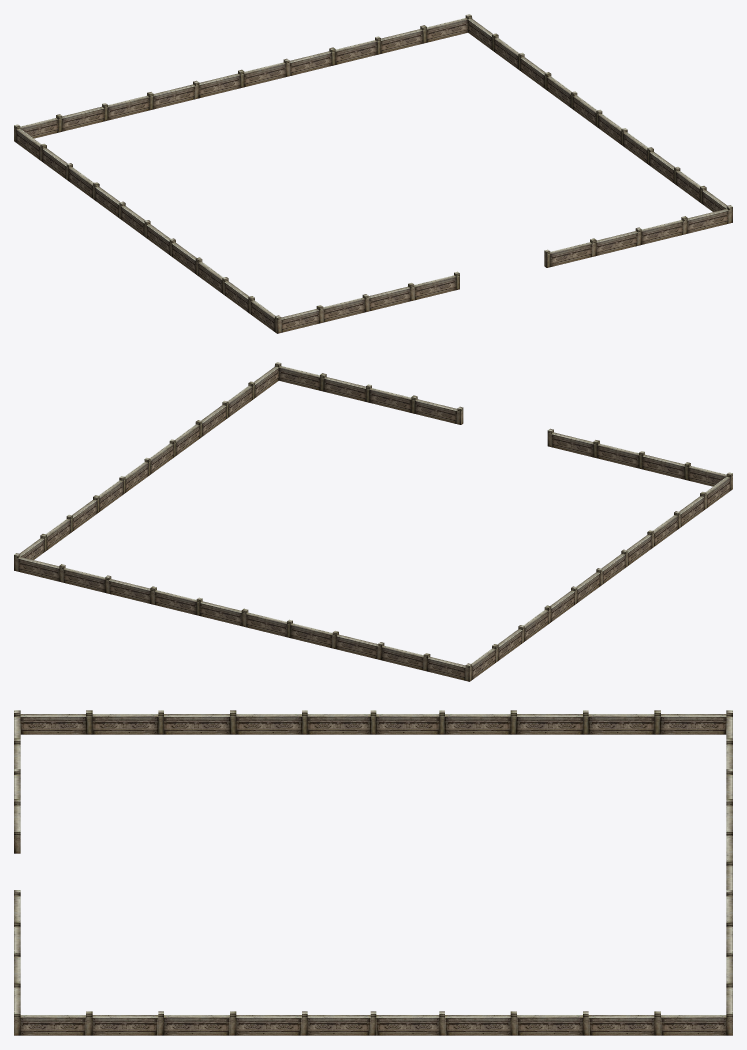
Rendered from lan04.obj.
The picture shows the model from 3 angles, top to bottom: view 1: azimuth 30°, elevation 25°; view 2: azimuth 150°, elevation 25°; view 3: azimuth 270°, elevation 25°; orthographic projection. The views are drawn at different scales.
Visible parts, largest first — view 1: lan04; view 2: lan04; view 3: lan04.
Part boxes in pixels (x1,y1,x2,y2): lan04: [14, 14, 732, 333]; lan04: [14, 362, 732, 681]; lan04: [14, 710, 732, 1035].
Size of the model in its own units: 600 by 20 by 600.
